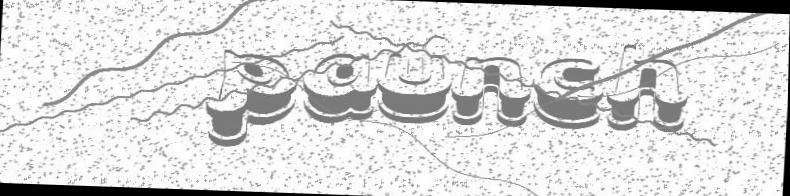a: (299, 49, 382, 122)
c: (531, 52, 608, 132)
h: (606, 41, 693, 133)
n: (454, 50, 533, 132)
p: (201, 45, 303, 150)
u: (378, 48, 455, 125)
